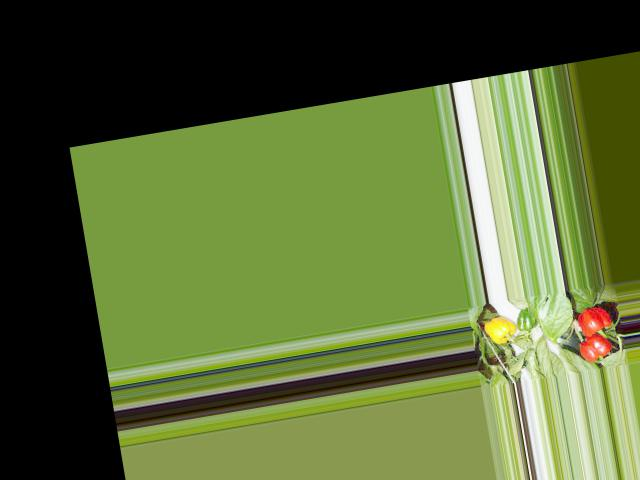bell_pepper: (479, 311, 519, 347)
